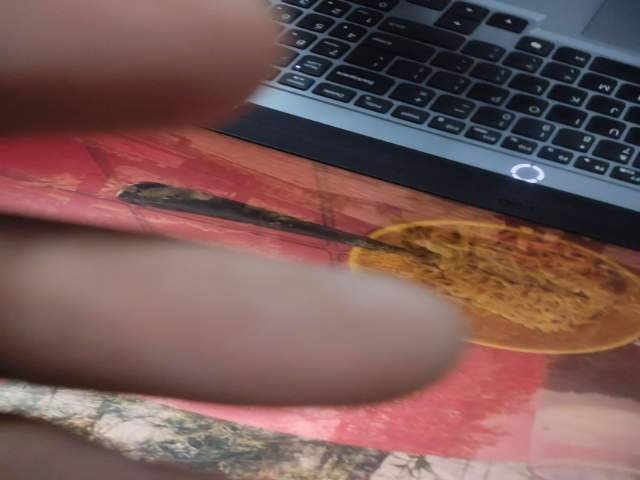pothole: (319, 287, 419, 367)
